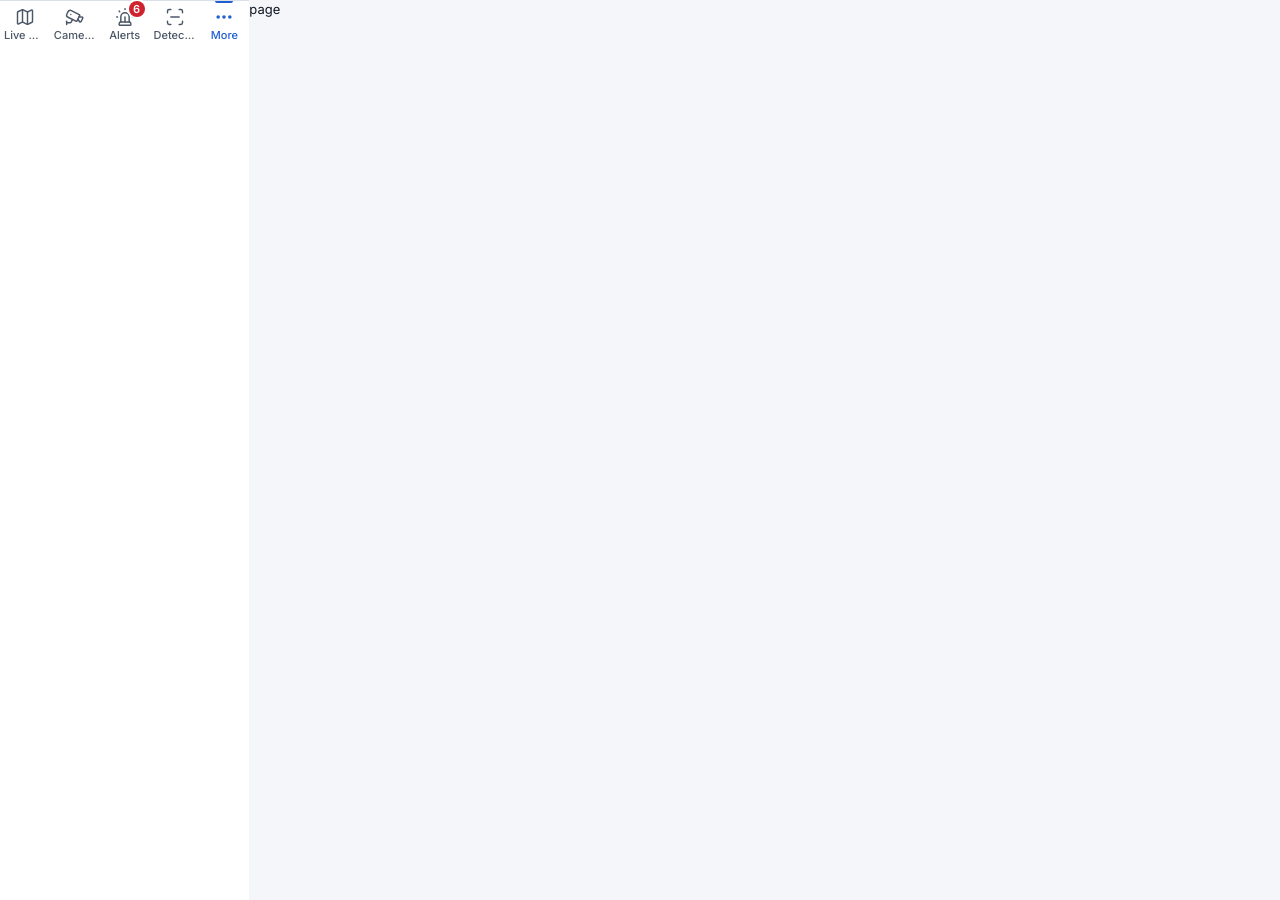
BottomNav › More is highlighted when the current page lives in the sheet; Esc closes the sheet
Click the button "More" at (224, 25), box left=199, top=1, right=249, bottom=49
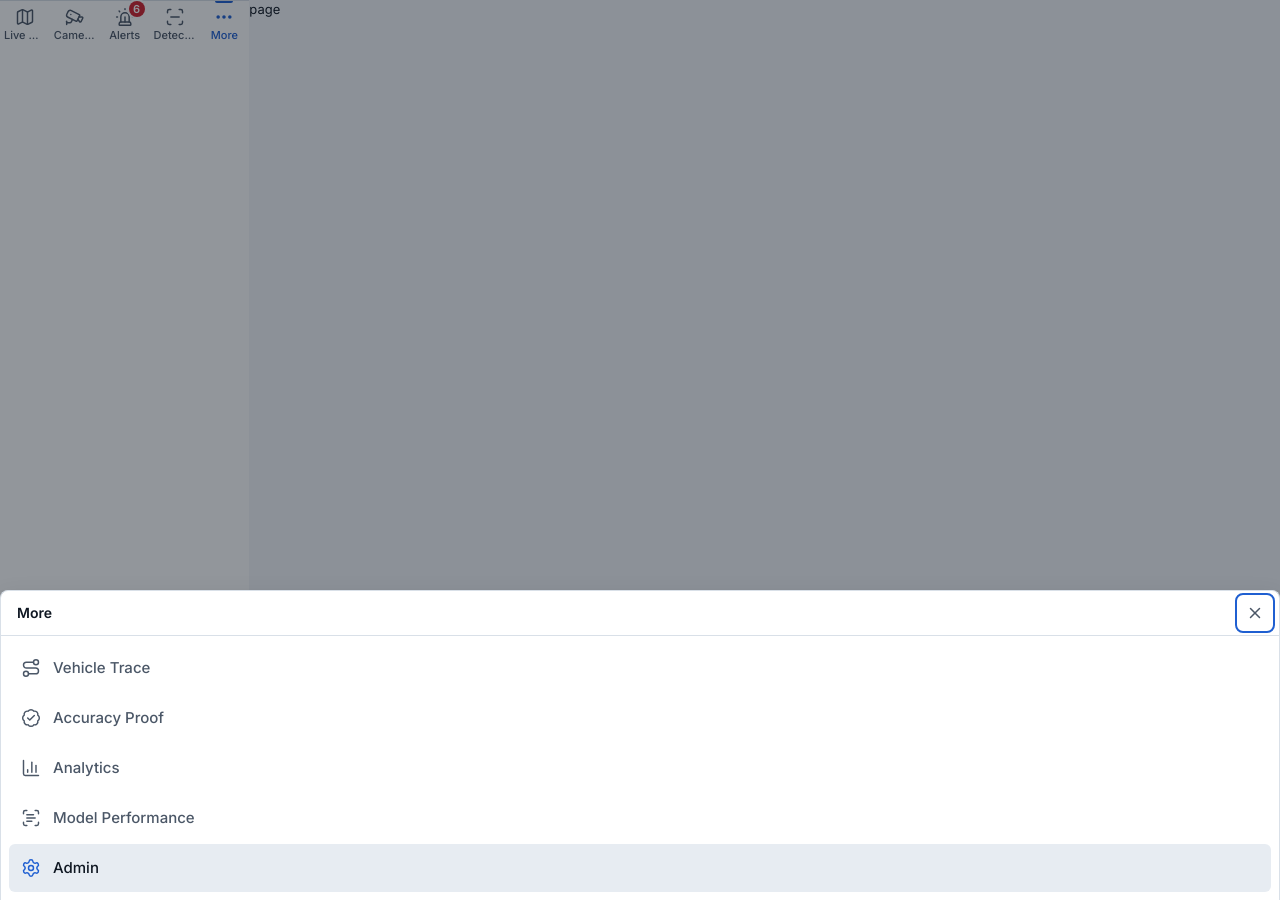
Check: the dialog is shown, box left=0, top=590, right=1279, bottom=899
Press Escape
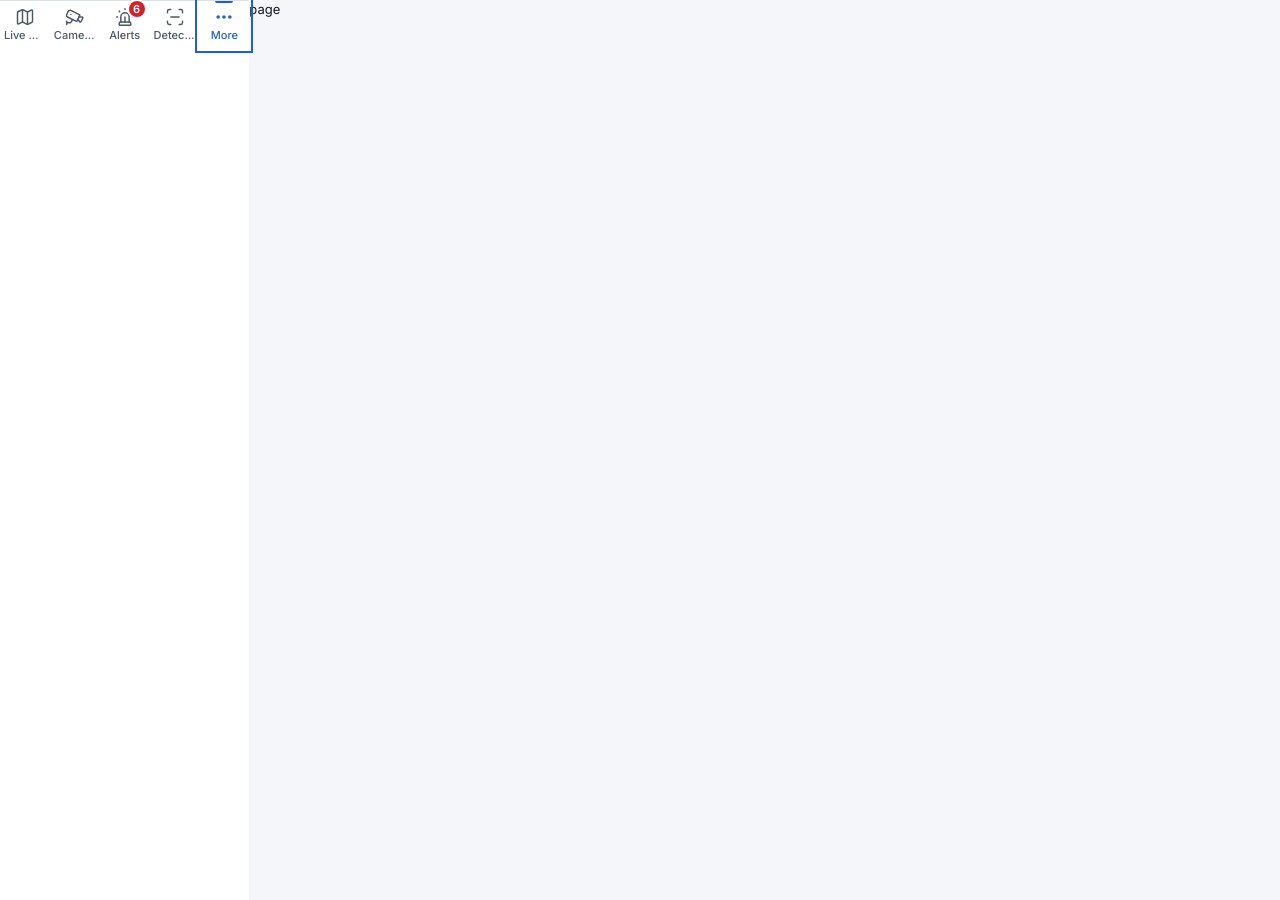
Check: the dialog is gone
